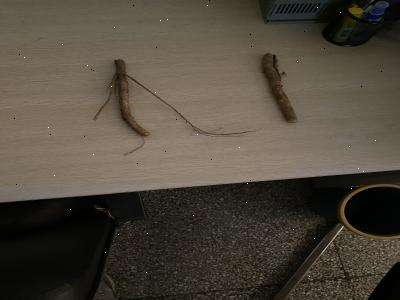Root: (94, 59, 150, 136), (262, 53, 297, 122)
